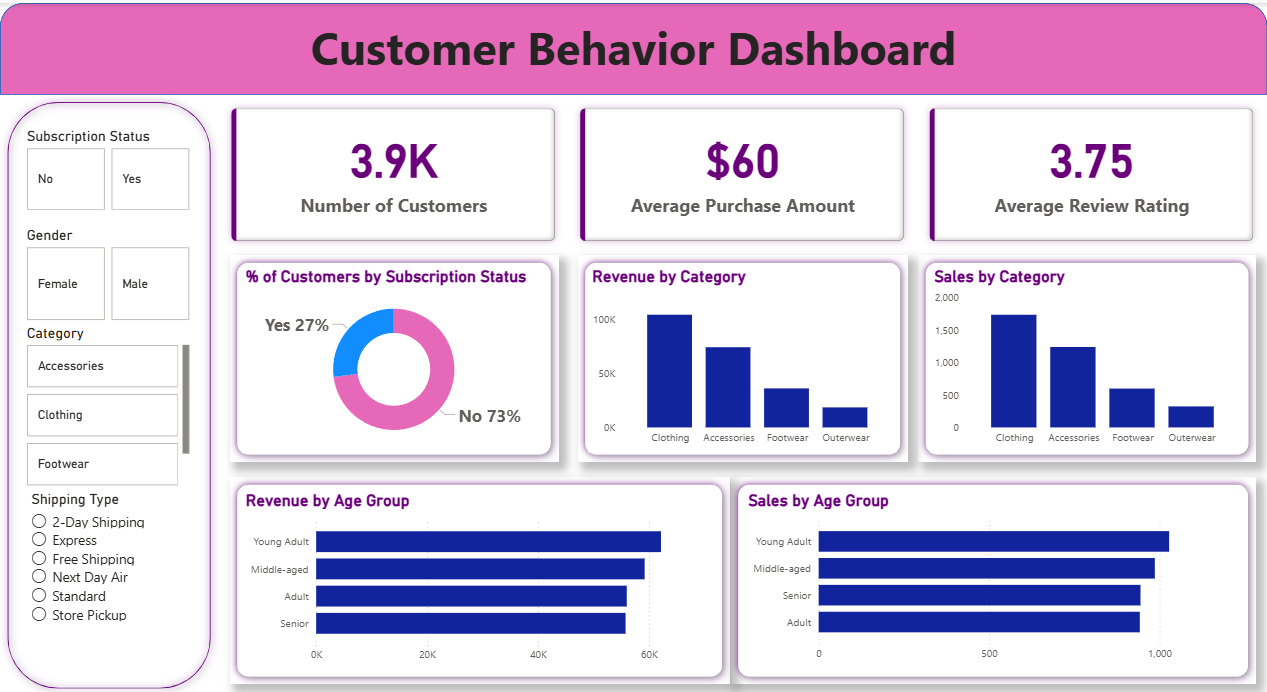

The page's visual inventory and layout, read from the dashboard file:
{"tool":"powerbi","page":{"name":"Page 1","canvas":[1500,820],"ordinal":0},"visuals":[{"type":"cardVisual","fields":{"Data":["customer_behavior customer.Number of Customers","customer_behavior customer.Average Purchase Amount","customer_behavior customer.Average Review Rating"]},"box":[258.2,108.8,1241.1,189.9],"z":0},{"type":"shape","box":[0,0,1499.3,108.8],"z":1000},{"type":"textbox","box":[0,11.1,1499.3,127.2],"z":2000},{"type":"shape","box":[271.1,298.7,389.1,245.3],"z":3000},{"type":"donutChart","title":"% of Customers by Subscription Status","fields":{"Category":["customer_behavior customer.subscription_status"],"Y":["CountNonNull(customer_behavior customer.customer_id)"]},"box":[285.8,311.7,359.6,219.5],"z":4000},{"type":"shape","box":[682.3,298.7,391,245.3],"z":5000},{"type":"shape","box":[1086.2,298.7,400.2,245.3],"z":6000},{"type":"clusteredColumnChart","title":"Revenue by Category","fields":{"Y":["Sum(customer_behavior customer.purchase_amount)"],"Category":["customer_behavior customer.category"]},"box":[695.2,311.7,365.1,219.5],"z":7000},{"type":"clusteredColumnChart","title":"Sales by Category","fields":{"Category":["customer_behavior customer.category"],"Y":["CountNonNull(customer_behavior customer.customer_id)"]},"box":[1100.9,311.7,370.7,219.5],"z":8000},{"type":"shape","box":[0,108.8,258.2,711.8],"z":9000},{"type":"advancedSlicerVisual","fields":{"Values":["customer_behavior customer.subscription_status"]},"box":[25.8,147.5,202.9,103.3],"z":10000},{"type":"advancedSlicerVisual","fields":{"Values":["customer_behavior customer.gender"]},"box":[25.8,263.7,202.9,116.2],"z":11000},{"type":"advancedSlicerVisual","fields":{"Values":["customer_behavior customer.category"]},"box":[25.8,379.9,202.9,197.3],"z":12000},{"type":"listSlicer","fields":{"Values":["customer_behavior customer.shipping_type"]},"box":[31.4,577.2,195.5,210.2],"z":13000},{"type":"shape","box":[271.1,560.6,592,245.3],"z":14000},{"type":"shape","box":[864.9,560.6,621.5,245.3],"z":15000},{"type":"clusteredBarChart","title":"Sales by Age Group","fields":{"Category":["customer_behavior customer.age_group"],"Y":["CountNonNull(customer_behavior customer.customer_id)"]},"box":[879.6,577.2,592,210.2],"z":16000},{"type":"clusteredBarChart","title":"Revenue by Age Group","fields":{"Y":["Sum(customer_behavior customer.purchase_amount)"],"Category":["customer_behavior customer.age_group"]},"box":[285.8,577.2,562.5,212.1],"z":17000}]}

Visuals, with their boxes in screenshot pixels (x1, y1, x2, y2), scaled from the page's 1500x820 canvas onto the 1267x692 screenshot:
cardVisual - customer_behavior customer.Number of Customers x customer_behavior customer.Average Purchase Amount: bbox(218, 92, 1266, 252)
shape: bbox(0, 0, 1266, 92)
textbox: bbox(0, 9, 1266, 117)
shape: bbox(229, 252, 558, 459)
"% of Customers by Subscription Status" donutChart: bbox(241, 263, 545, 448)
shape: bbox(576, 252, 907, 459)
shape: bbox(917, 252, 1256, 459)
"Revenue by Category" clusteredColumnChart: bbox(587, 263, 896, 448)
"Sales by Category" clusteredColumnChart: bbox(930, 263, 1243, 448)
shape: bbox(0, 92, 218, 691)
advancedSlicerVisual - customer_behavior customer.subscription_status: bbox(22, 124, 193, 212)
advancedSlicerVisual - customer_behavior customer.gender: bbox(22, 223, 193, 321)
advancedSlicerVisual - customer_behavior customer.category: bbox(22, 321, 193, 487)
listSlicer - customer_behavior customer.shipping_type: bbox(27, 487, 192, 664)
shape: bbox(229, 473, 729, 680)
shape: bbox(731, 473, 1256, 680)
"Sales by Age Group" clusteredBarChart: bbox(743, 487, 1243, 664)
"Revenue by Age Group" clusteredBarChart: bbox(241, 487, 717, 666)
